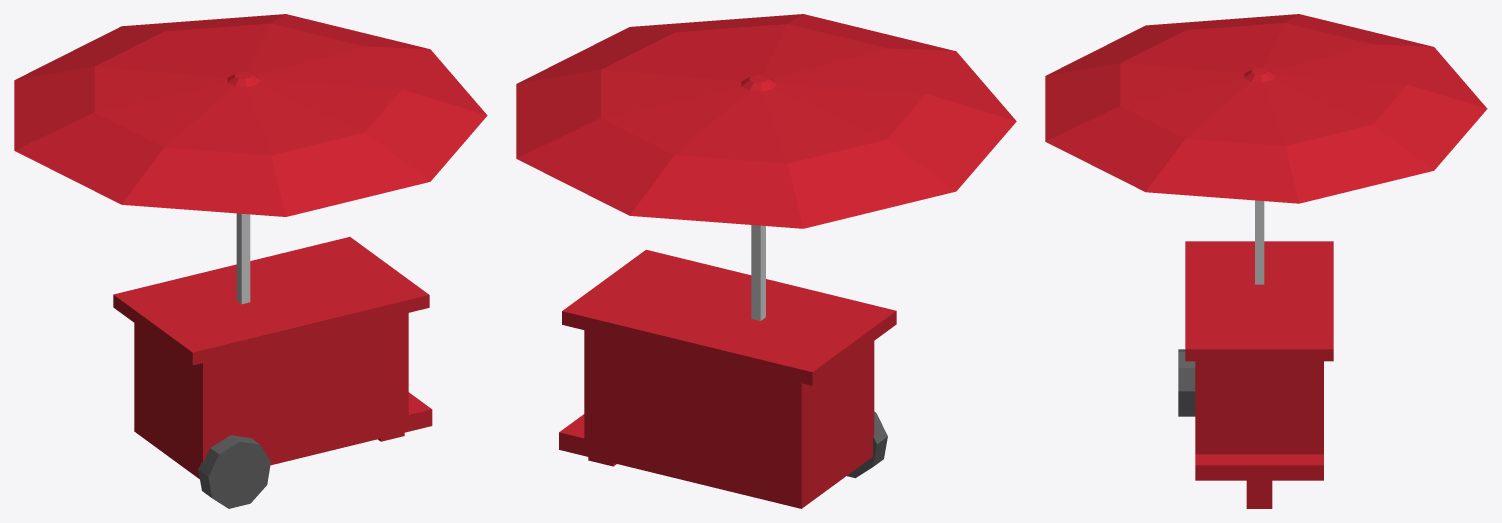
The model's file is food_cart.glb.
3 renders of one model, left to right at view 1: azimuth 30°, elevation 25°; view 2: azimuth 150°, elevation 25°; view 3: azimuth 270°, elevation 25°, orthographic. The views are drawn at different scales.
Parts seen in each view (by area): view 1: UmbrellaTop, Cart, Wheel, UmbrellaStick; view 2: UmbrellaTop, Cart, UmbrellaStick, Wheel; view 3: UmbrellaTop, Cart, Wheel, UmbrellaStick.
Boxes of the visible parts, box(x1,y1,x2,y2) form: UmbrellaTop: box(14, 14, 487, 216); Cart: box(113, 237, 432, 479); Wheel: box(198, 435, 270, 508); UmbrellaStick: box(236, 213, 250, 304); UmbrellaTop: box(516, 14, 1016, 228); Cart: box(559, 249, 896, 508); UmbrellaStick: box(751, 225, 765, 320); Wheel: box(847, 411, 887, 478); UmbrellaTop: box(1045, 14, 1487, 203); Cart: box(1185, 241, 1333, 508); Wheel: box(1178, 349, 1195, 416); UmbrellaStick: box(1255, 200, 1264, 284).
Bounding box in the file's own units: 6.98 × 6.3 × 6.87.
